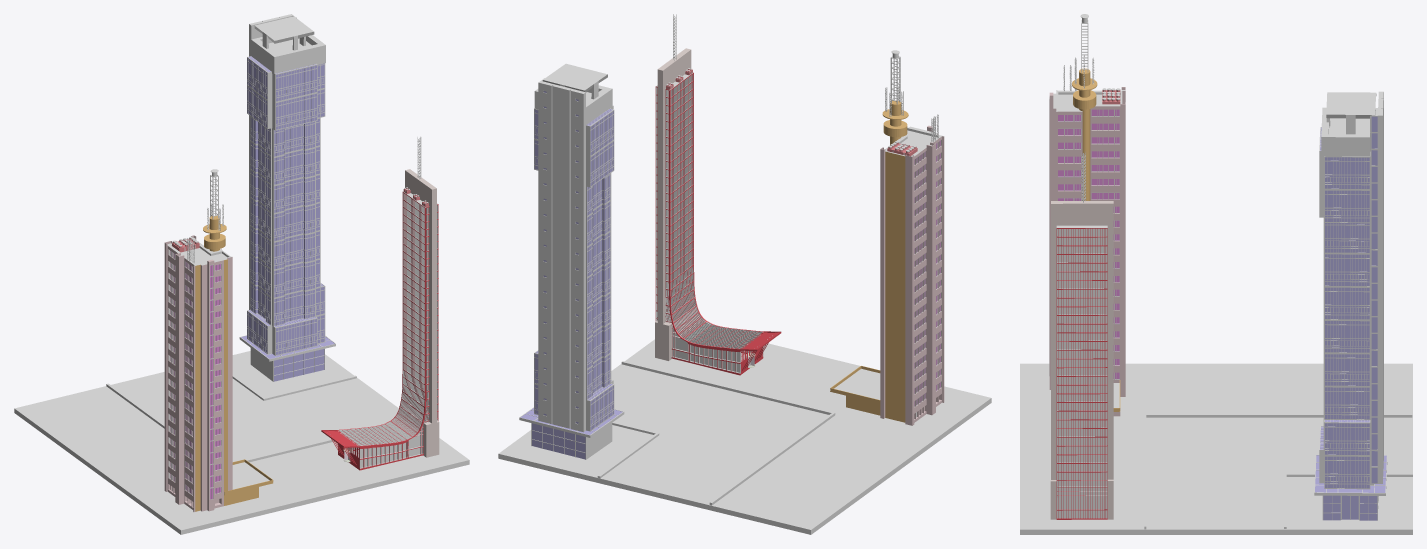
Rendered from chunck9.fbx.
3 renders of one model, left to right at view 1: azimuth 30°, elevation 25°; view 2: azimuth 150°, elevation 25°; view 3: azimuth 270°, elevation 25°, orthographic. The views are drawn at different scales.
Parts seen in each view (by area): view 1: Plane.010, skyscraper7, skyscraper6, skyscraper5, Cube.048; view 2: Plane.010, skyscraper7, skyscraper6, skyscraper5, Cube.048; view 3: Plane.010, skyscraper7, skyscraper5, skyscraper6, Cube.048.
Boxes of the visible parts, bbox=[...] form: Plane.010: bbox=[14, 351, 469, 534]; skyscraper7: bbox=[239, 14, 335, 381]; skyscraper6: bbox=[164, 169, 273, 511]; skyscraper5: bbox=[321, 137, 439, 470]; Cube.048: bbox=[106, 383, 333, 462]; Plane.010: bbox=[498, 339, 991, 534]; skyscraper7: bbox=[519, 63, 624, 459]; skyscraper6: bbox=[830, 50, 944, 425]; skyscraper5: bbox=[655, 14, 781, 375]; Cube.048: bbox=[621, 361, 835, 505]; Plane.010: bbox=[1020, 363, 1412, 534]; skyscraper7: bbox=[1314, 91, 1387, 520]; skyscraper5: bbox=[1050, 152, 1113, 519]; skyscraper6: bbox=[1049, 14, 1125, 416]; Cube.048: bbox=[1144, 413, 1412, 529].
Bounding box in the file's own units: 6400 × 7290 × 6400.
